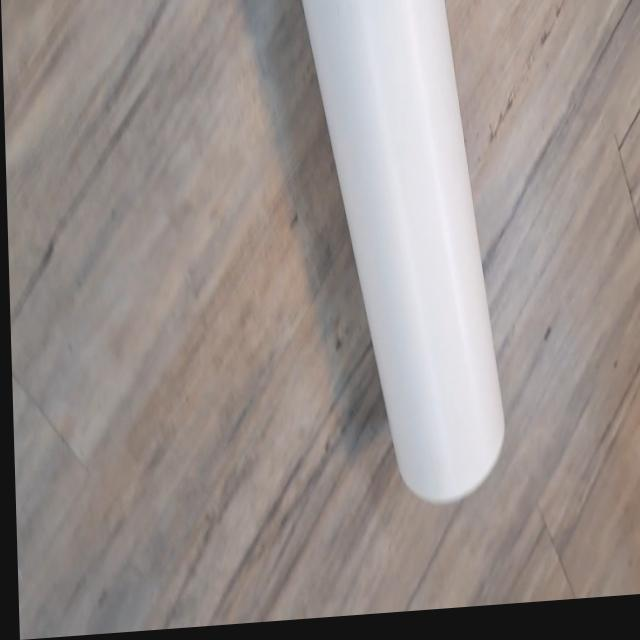CORAL: (275, 0, 514, 522)
